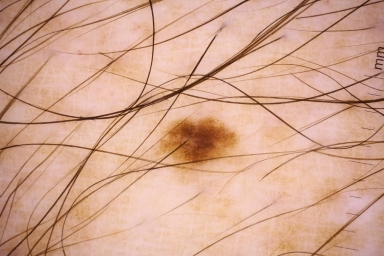melanoma: (161, 115, 235, 167)
